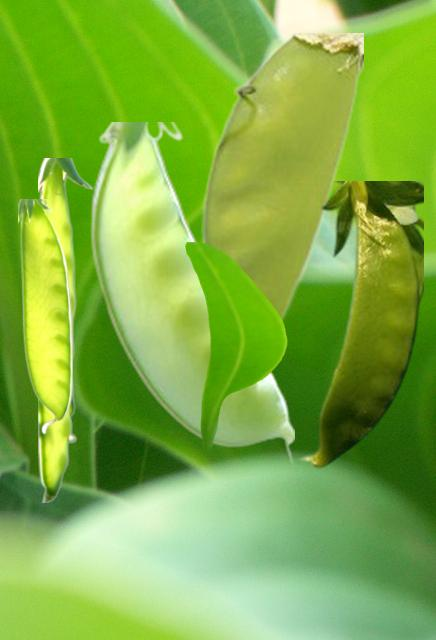pea: (89, 122, 293, 465), (201, 33, 362, 322), (298, 181, 422, 467), (38, 158, 92, 501), (18, 199, 71, 433)
